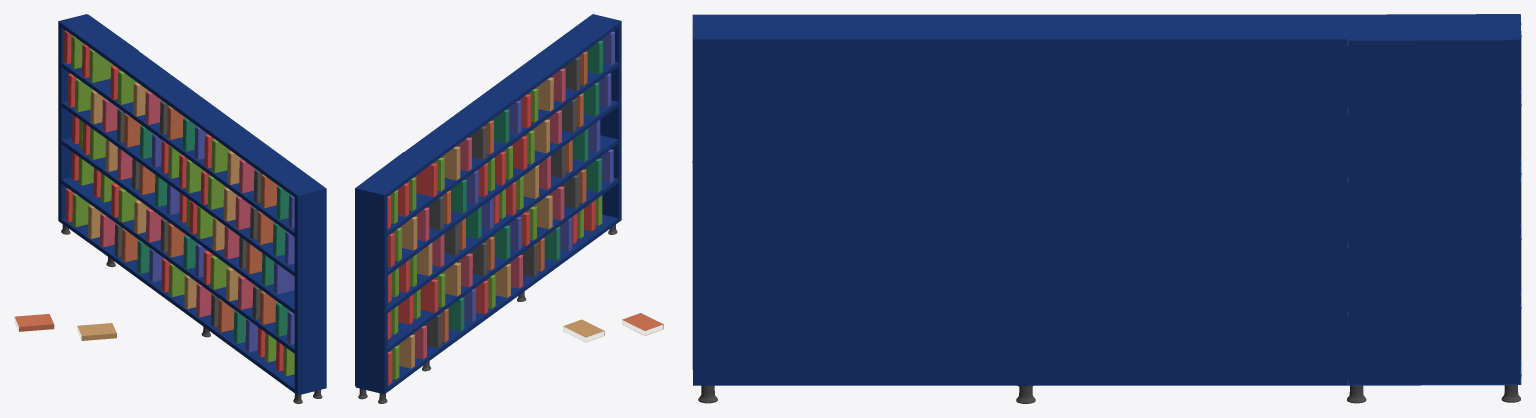
The model's file is Librero Biblioteca Material.glb.
3 renders of one model, left to right at view 1: azimuth 30°, elevation 25°; view 2: azimuth 150°, elevation 25°; view 3: azimuth 270°, elevation 25°, orthographic. The views are drawn at different scales.
Parts seen in each view (by area): view 1: librero, libroBibliteca.001, libroBibliteca, libroBibliteca.005, libroBibliteca.003, libroBibliteca.002, libroBibliteca.006, libroBibliteca.007, libroBibliteca.004, Plane.019, sites.001; view 2: librero, libroBibliteca, libroBibliteca.001, libroBibliteca.002, libroBibliteca.006, libroBibliteca.004, libroBibliteca.003, libroBibliteca.007, libroBibliteca.005, Plane.019, sites.001; view 3: librero.
Boxes of the visible parts, x1,y1,x2,y2 form: librero: [58, 14, 326, 403]; libroBibliteca.001: [71, 35, 294, 376]; libroBibliteca: [63, 30, 283, 371]; libroBibliteca.005: [121, 106, 278, 332]; libroBibliteca.003: [100, 90, 255, 317]; libroBibliteca.002: [88, 82, 241, 308]; libroBibliteca.006: [137, 117, 290, 344]; libroBibliteca.007: [149, 126, 294, 352]; libroBibliteca.004: [114, 101, 262, 327]; Plane.019: [77, 323, 116, 340]; sites.001: [14, 314, 54, 331]; librero: [355, 14, 621, 403]; libroBibliteca: [387, 93, 595, 385]; libroBibliteca.001: [390, 88, 602, 379]; libroBibliteca.002: [398, 77, 553, 368]; libroBibliteca.006: [448, 40, 602, 331]; libroBibliteca.004: [425, 57, 580, 347]; libroBibliteca.003: [413, 68, 565, 359]; libroBibliteca.007: [463, 31, 614, 322]; libroBibliteca.005: [440, 51, 587, 342]; Plane.019: [562, 319, 604, 342]; sites.001: [622, 313, 663, 335]; librero: [692, 14, 1521, 403].
Bounding box in the file's own units: 12.29 × 13 × 26.73.
